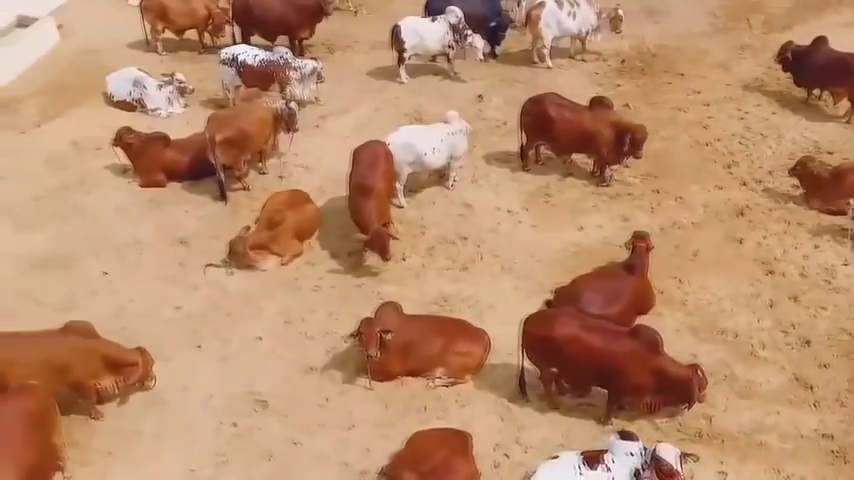bo: (503, 294, 724, 427), (1, 307, 173, 431), (348, 291, 503, 410), (495, 76, 651, 184), (542, 217, 668, 327), (193, 81, 307, 186), (383, 98, 474, 211), (522, 427, 711, 480), (333, 124, 396, 277), (389, 5, 492, 94), (88, 53, 203, 132), (223, 185, 321, 274), (211, 38, 325, 109), (5, 376, 82, 477), (105, 124, 215, 194), (521, 1, 633, 69), (768, 25, 848, 120), (368, 412, 483, 476), (772, 139, 854, 227), (128, 3, 243, 55), (235, 4, 359, 52), (421, 1, 512, 61)
